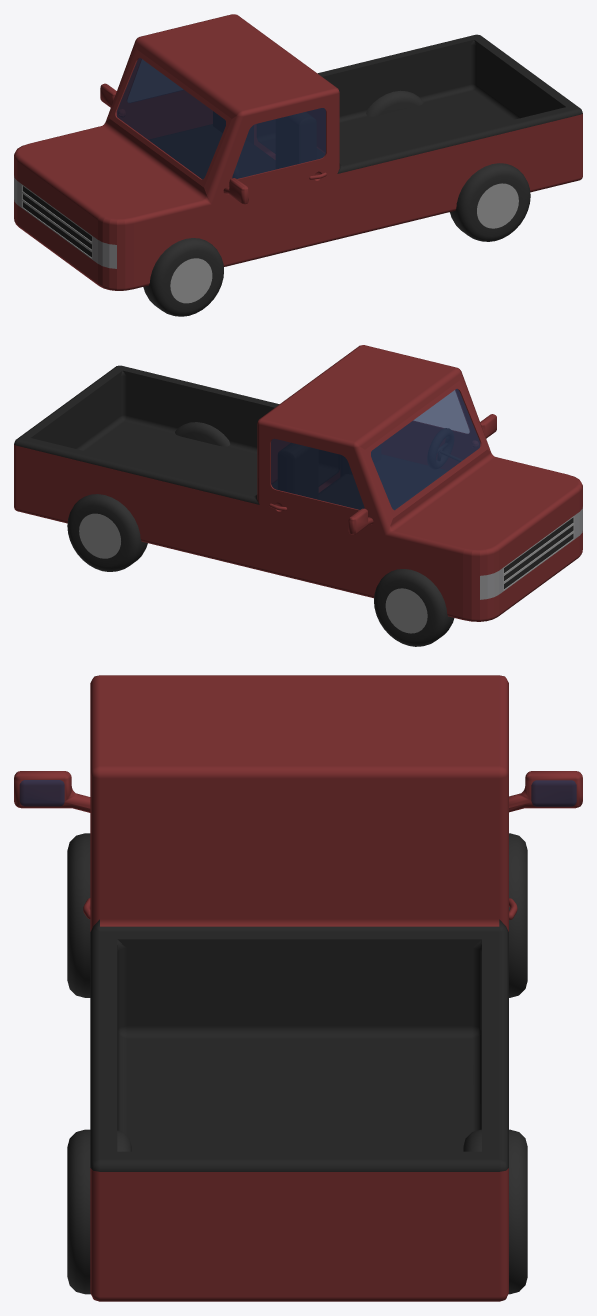
The model's file is pickuptruck2.fbx.
3 views of the same model, one above another, from view 1: azimuth 30°, elevation 25°; view 2: azimuth 150°, elevation 25°; view 3: azimuth 270°, elevation 25° (orthographic). The views are drawn at different scales.
Parts seen in each view (by area): view 1: handle, back wheel R, front wheel R, seat, seat1, back wheel L; view 2: handle, back wheel L, front wheel L, seat, seat2, back wheel R, steering wheel; view 3: handle, back wheel R, front wheel R, back wheel L, front wheel L.
Boxes of the visible parts, box(x1,y1,x2,y2) form: handle: box(14, 14, 582, 290); back wheel R: box(450, 163, 530, 241); front wheel R: box(143, 238, 223, 316); seat: box(149, 124, 275, 178); seat1: box(276, 112, 316, 168); back wheel L: box(366, 90, 423, 116); handle: box(14, 345, 582, 621); back wheel L: box(67, 494, 147, 571); front wheel L: box(374, 569, 454, 646); seat: box(319, 455, 447, 509); seat2: box(278, 443, 318, 499); back wheel R: box(175, 422, 230, 446); steering wheel: box(427, 428, 453, 469); handle: box(14, 675, 582, 1301); back wheel R: box(67, 1129, 131, 1294); front wheel R: box(67, 833, 90, 997); back wheel L: box(463, 1129, 527, 1294); front wheel L: box(509, 833, 527, 997).
Bounding box in the file's own units: 623 × 235 × 326.
